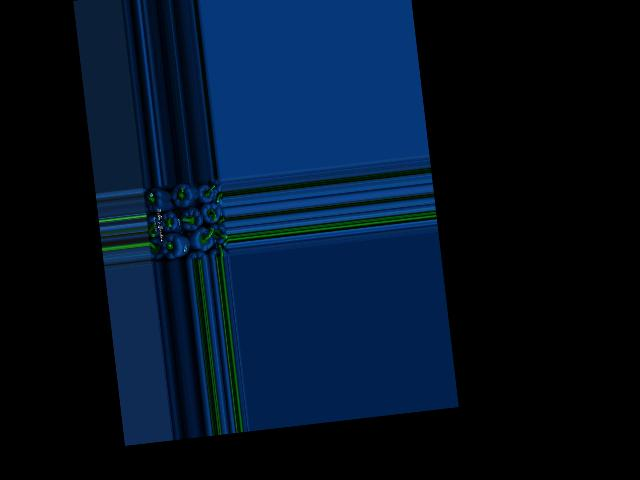bell_pepper: (148, 235, 167, 263)
